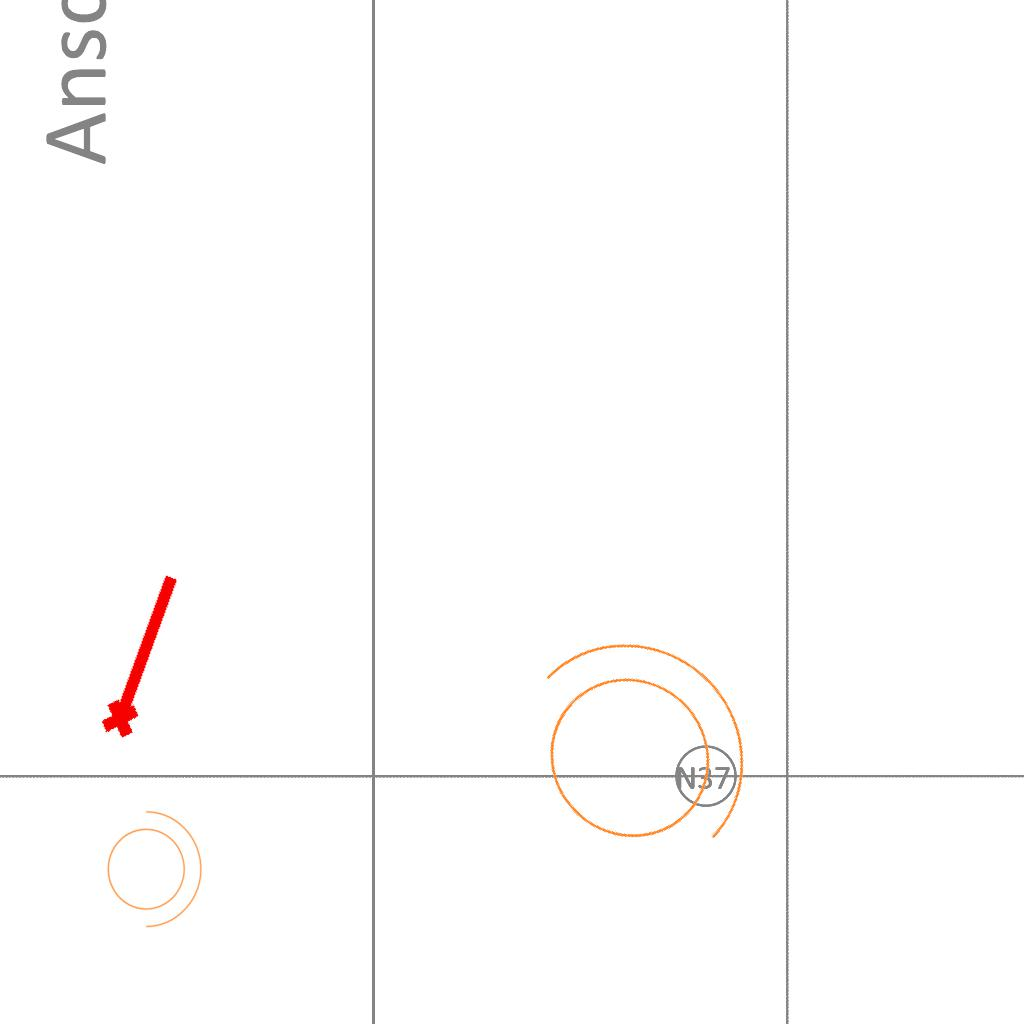ASR_Ansaugoeffnung: (89, 563, 193, 745)
Scheinwerfer_fuer_Alarmbeleuchtung: (458, 573, 806, 920), (95, 800, 207, 932)
